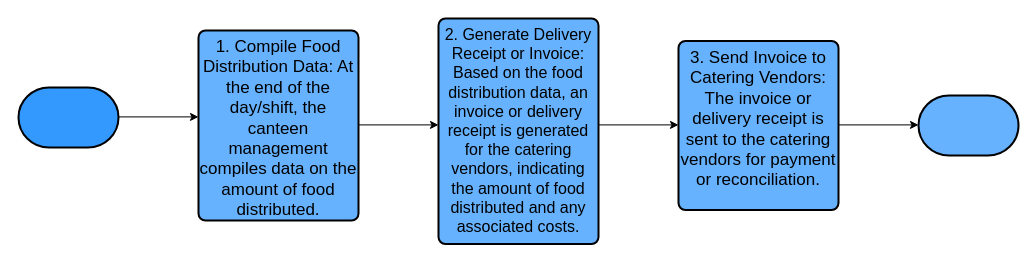
The diagram is 1036 pixels wide and 262 high, and some of its shapes have lost their labels. Each missing label, with the centre of its shape:
End: (968,125)
Start: (68,117)
